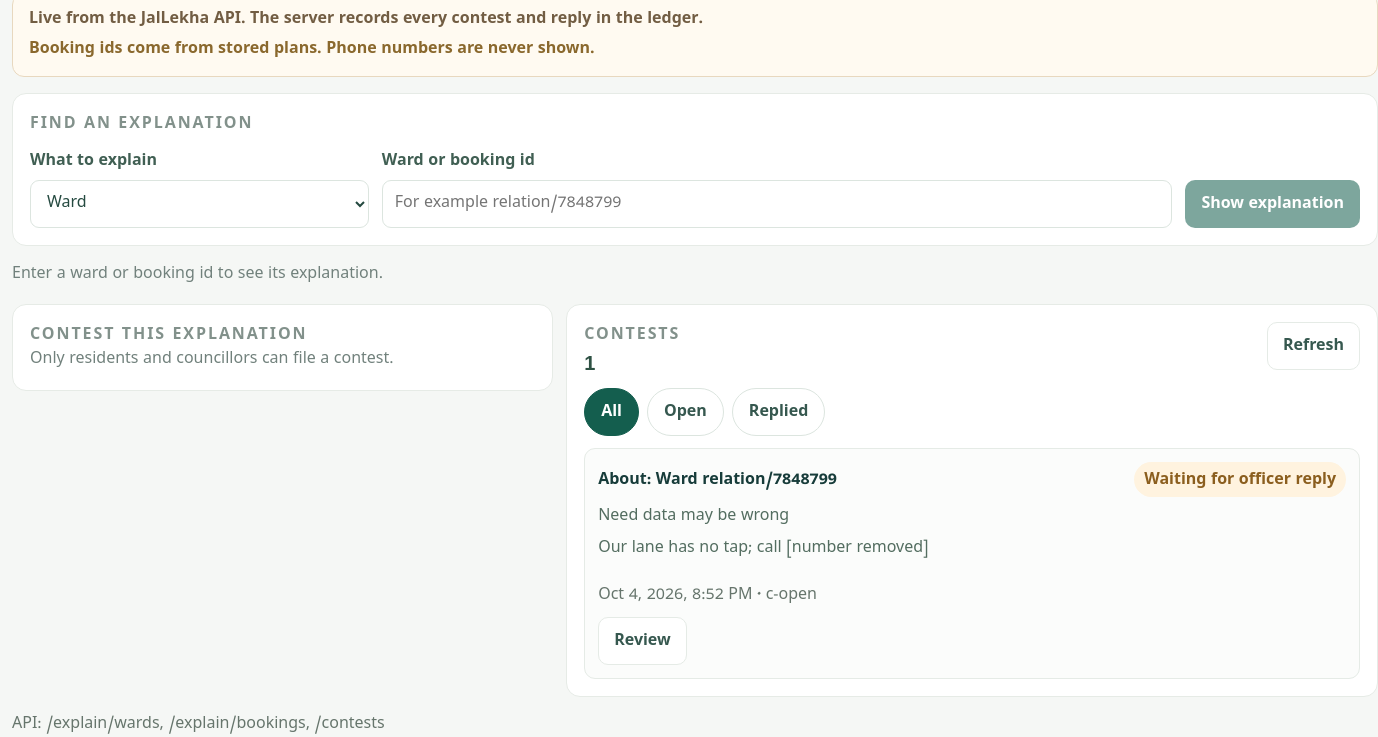
Test: ExplainExperience (live) › shows the officer a plain message when the contest already has a reply (409)
(page scrolled)
Click the button with aria-label "Review c-open": {"x": 642, "y": 641} [598,617,687,665]
(page scrolled)
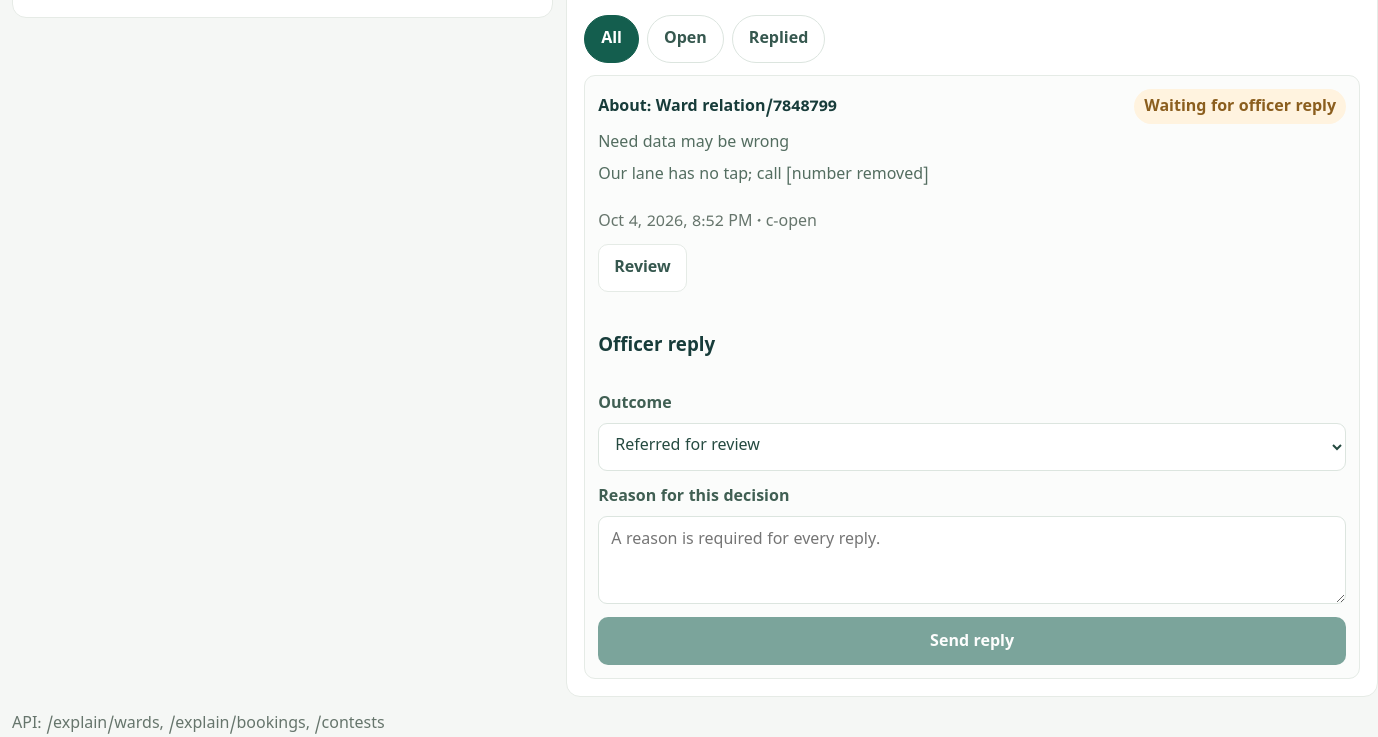
In the text box labelled "Reason for this decision": {"x": 972, "y": 560} [598,516,1346,604], type "Checked."
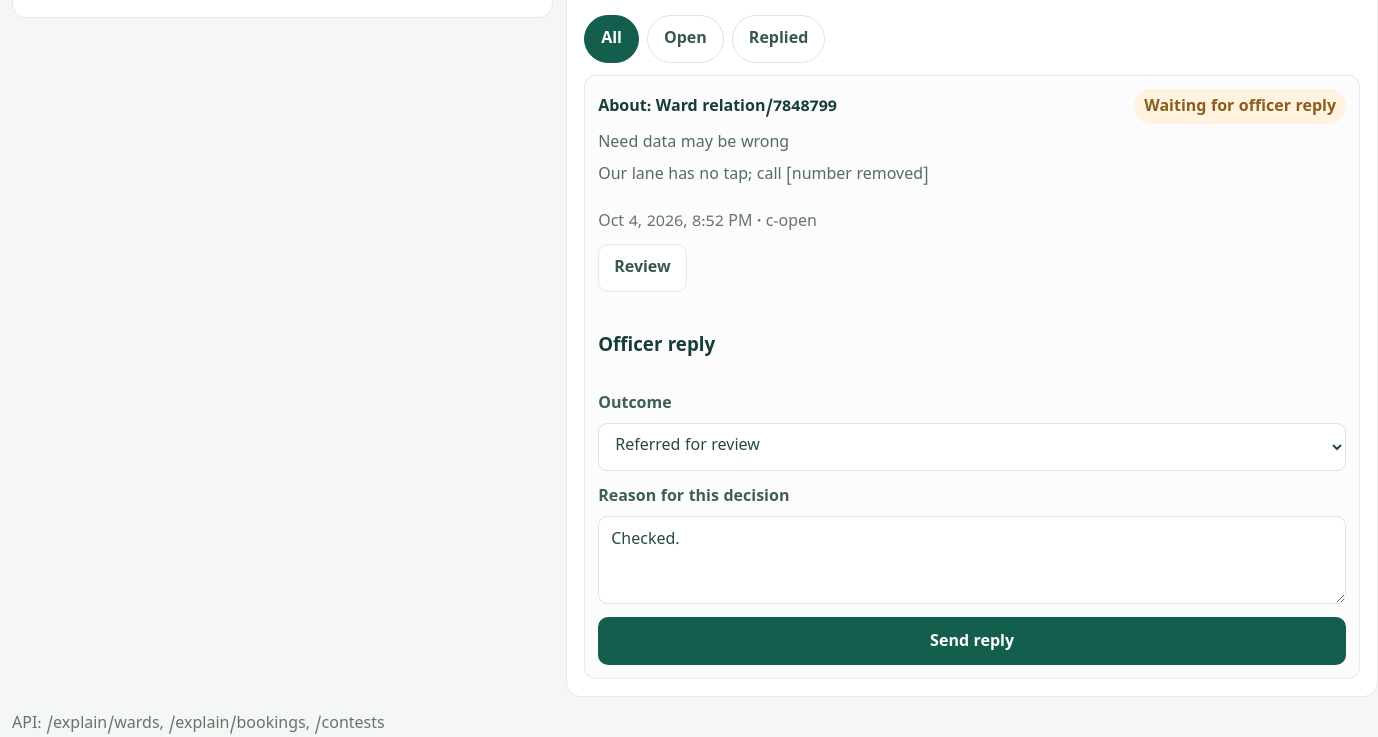
Click the button "Send reply": {"x": 972, "y": 641} [598,617,1346,665]
(page scrolled)
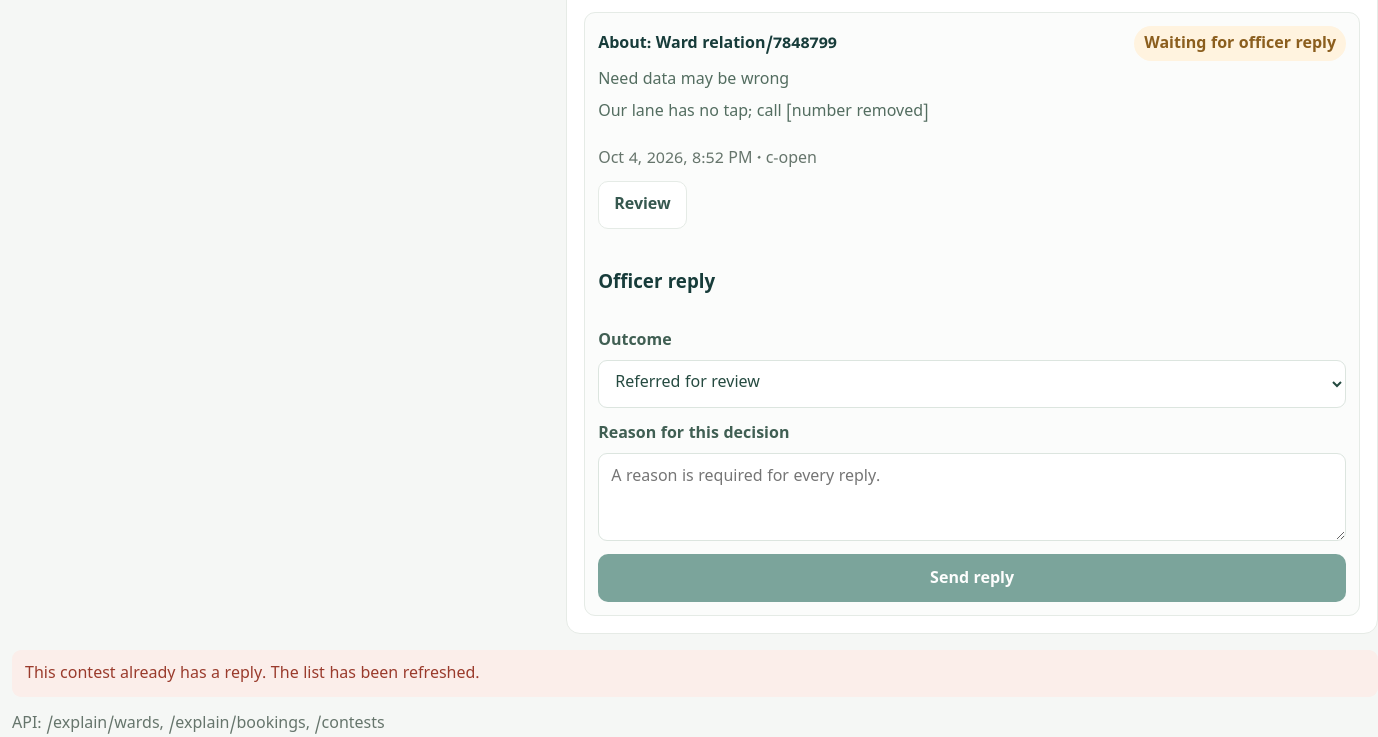
Now the text "This contest already has a reply. The list has been refreshed." is shown, box [12,650,1377,697]
